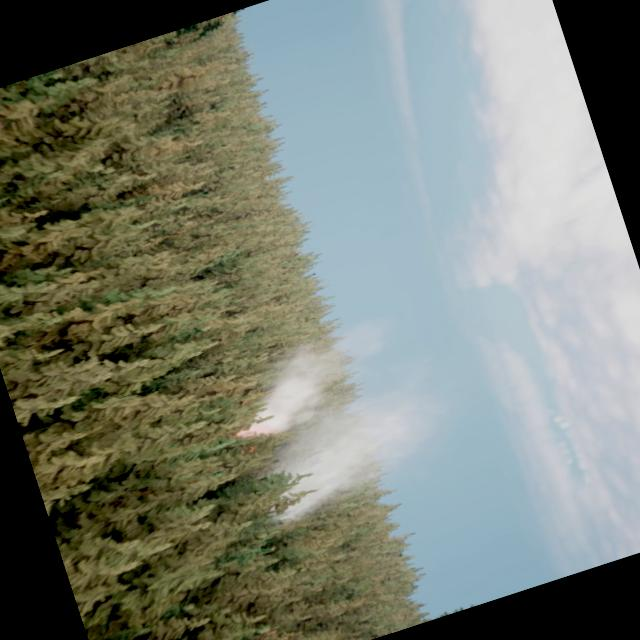smoke: (220, 298, 488, 532)
